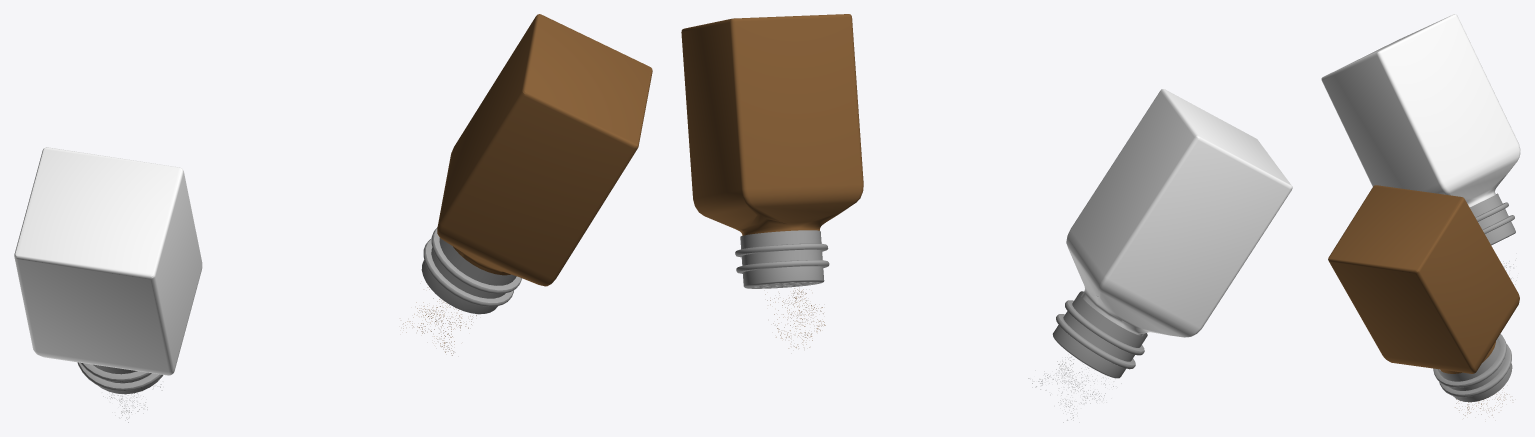
Rendered from Saltershakers.glb.
3 views of the same model, side by side, from view 1: azimuth 30°, elevation 25°; view 2: azimuth 150°, elevation 25°; view 3: azimuth 270°, elevation 25° (orthographic). The views are drawn at different scales.
Visible parts, largest first — view 1: Cube.004, Cube.003, Cylinder.001, Cylinder.003; view 2: Cube.004, Cube.003, Cylinder.001, Cylinder.003, Icosphere.003; view 3: Cube.004, Cube.003, Cylinder.001, Cylinder.003.
Part boxes in pixels (x1,y1,x2,y2): Cube.004: (437,14,652,286); Cube.003: (14,147,202,375); Cylinder.001: (421,227,521,314); Cylinder.003: (77,362,163,394); Cube.004: (681,14,863,235); Cube.003: (1066,89,1292,337); Cylinder.001: (735,230,829,288); Cylinder.003: (1052,291,1147,378); Icosphere.003: (1028,354,1121,422); Cube.004: (1328,185,1519,373); Cube.003: (1321,14,1520,207); Cylinder.001: (1433,334,1512,402); Cylinder.003: (1469,193,1515,245).
Size of the model in its own units: 4.25 by 2.05 by 1.45.
